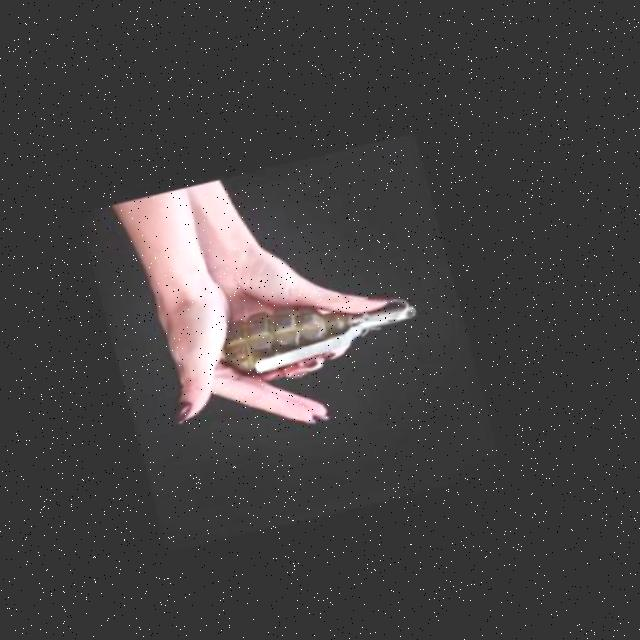grenade: (206, 252, 438, 409)
